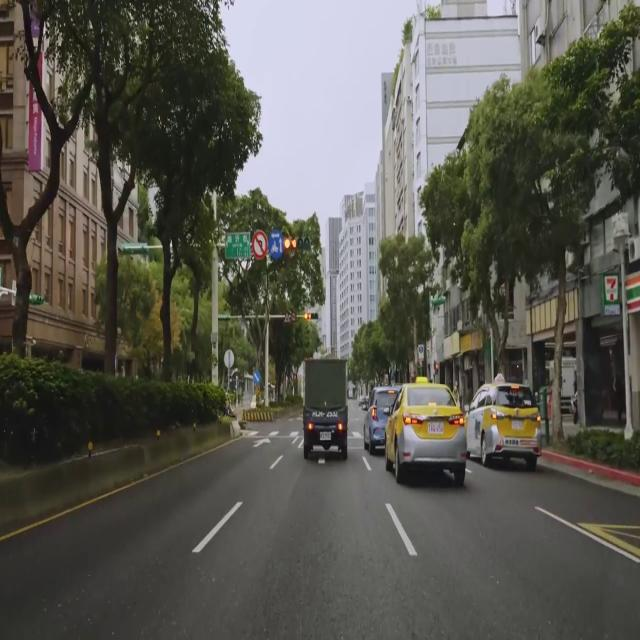red light: (283, 234, 310, 254), (304, 312, 318, 321)
